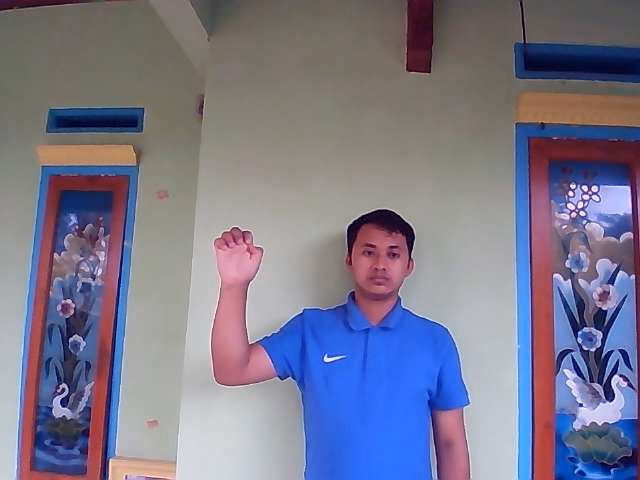E: (212, 226, 265, 286)
